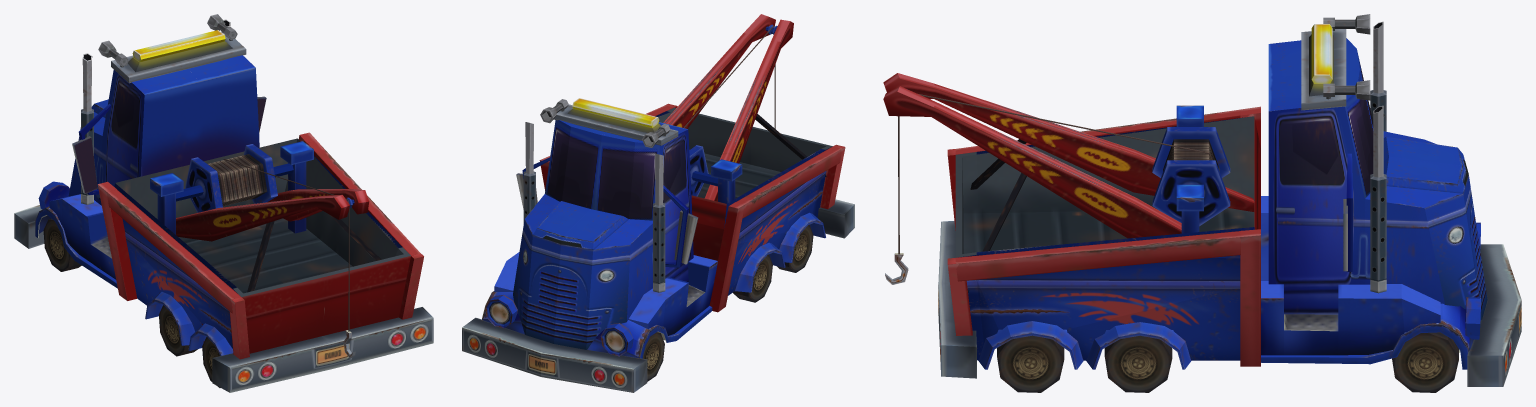
File: Tow_Truck.FBX
3 renders of one model, left to right at view 1: azimuth 30°, elevation 25°; view 2: azimuth 150°, elevation 25°; view 3: azimuth 270°, elevation 25°, orthographic. The views are drawn at different scales.
Visible parts, largest first — view 1: Tow_Truck, Tyre_FL, Tyre_BL_1, Tyre_BL_2; view 2: Tow_Truck, Tyre_BL_1, Tyre_BL_2, Tyre_FL; view 3: Tow_Truck, Tyre_FR, Tyre_BR_1, Tyre_BR_2.
Part boxes in pixels (box(x1,y1,x2,y2)): Tow_Truck: box(14, 14, 433, 392); Tyre_FL: box(43, 218, 81, 271); Tyre_BL_1: box(159, 305, 197, 356); Tyre_BL_2: box(202, 337, 220, 387); Tow_Truck: box(462, 14, 854, 392); Tyre_BL_1: box(733, 254, 772, 302); Tyre_BL_2: box(777, 224, 813, 272); Tyre_FL: box(643, 332, 664, 381); Tow_Truck: box(883, 14, 1521, 386); Tyre_FR: box(1392, 332, 1458, 392); Tyre_BR_1: box(1104, 335, 1172, 392); Tyre_BR_2: box(997, 335, 1064, 392).
Size of the model in its own units: 5.24 by 5.61 by 10.97.
Materials: 1 (1 with a texture image).
